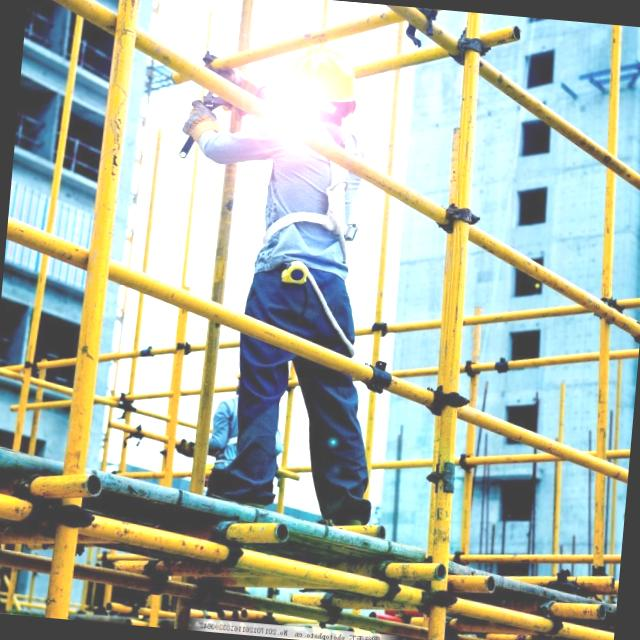helmet: (279, 43, 358, 105)
no-vest: (255, 116, 376, 278)
